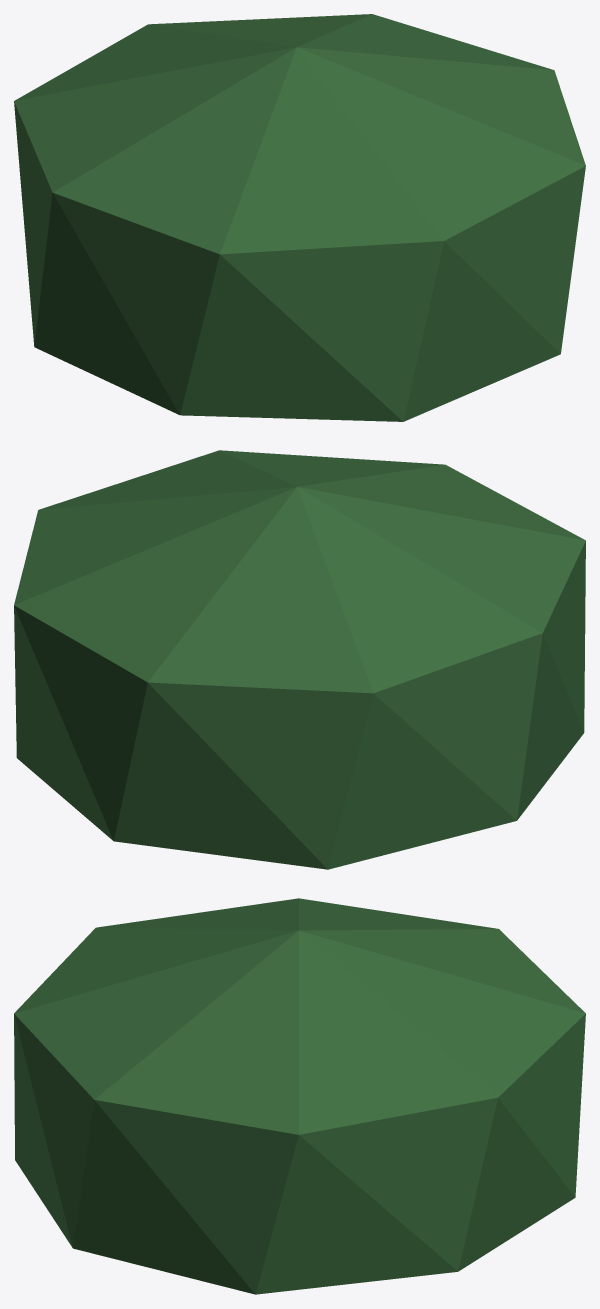
The model's file is shrub_round.glb.
3 renders of one model, top to bottom at view 1: azimuth 30°, elevation 25°; view 2: azimuth 150°, elevation 25°; view 3: azimuth 270°, elevation 25°, orthographic. The views are drawn at different scales.
Visible parts, largest first — view 1: shrub_round; view 2: shrub_round; view 3: shrub_round.
Part boxes in pixels (x1=…): shrub_round: x1=14, y1=14, x2=585, y2=421; shrub_round: x1=14, y1=450, x2=585, y2=869; shrub_round: x1=14, y1=898, x2=585, y2=1294.
Size of the model in its own units: 1.22 by 0.8 by 1.25.
